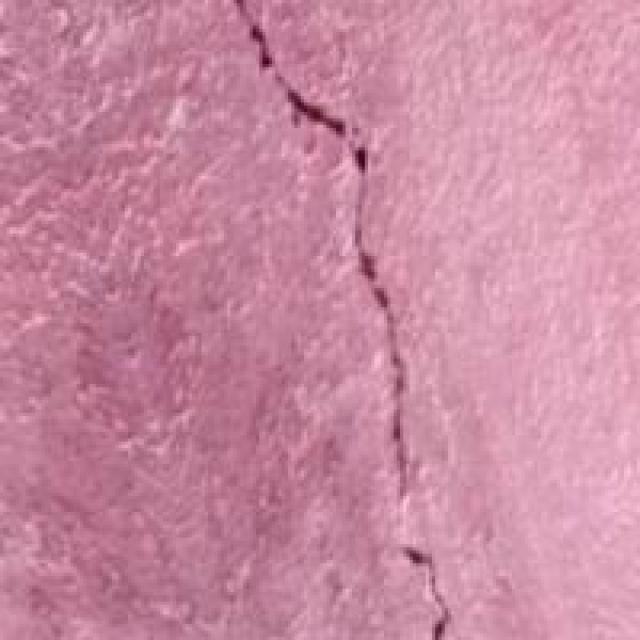crack: (198, 3, 500, 637)
